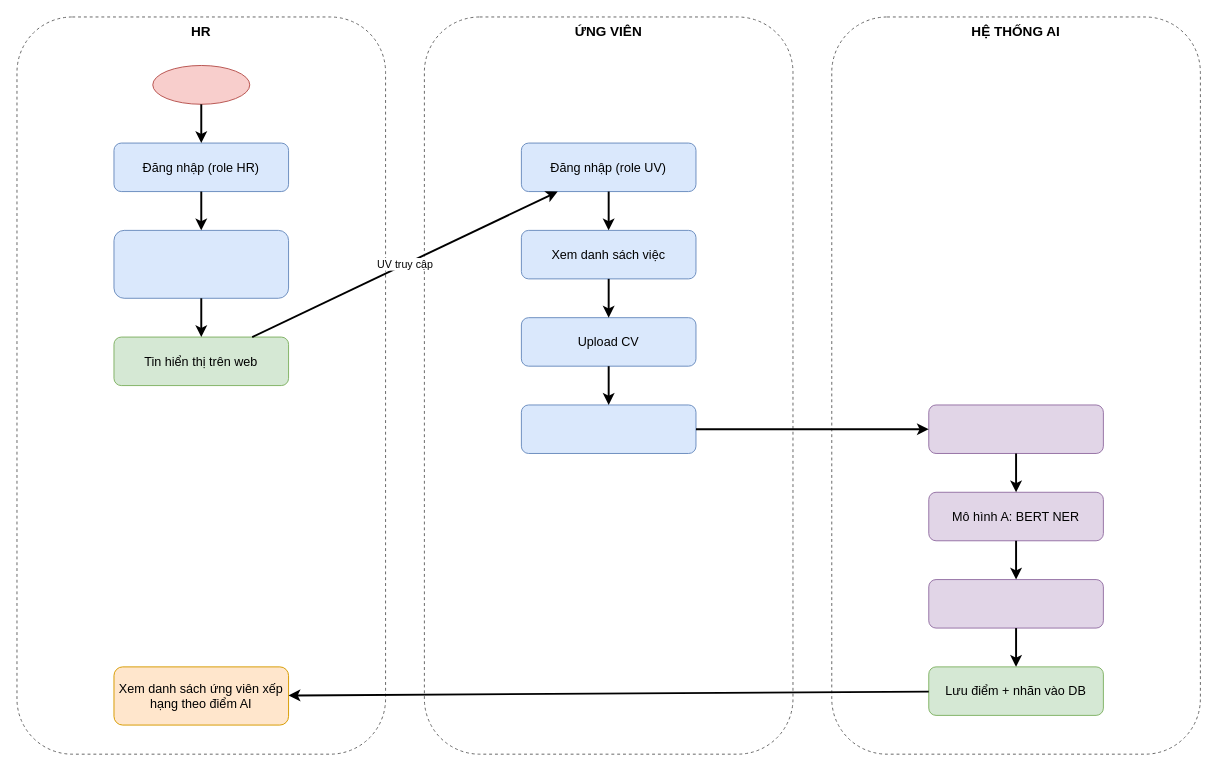
Image size: 1217x771. Some labels were removed from this diagram. Each missing label, with the centre of its shape:
"Bắt đầu" goes at pixel 201 84.
"CV Parser (PDF/DOCX → text)" goes at pixel 1015 428.
"Mô hình B: DistilBERT Fit" goes at pixel 1015 603.
"Nhấn Ứng tuyển" goes at pixel 608 428.
"Tạo tin tuyển dụng (nhập JD)" goes at pixel 201 263.
